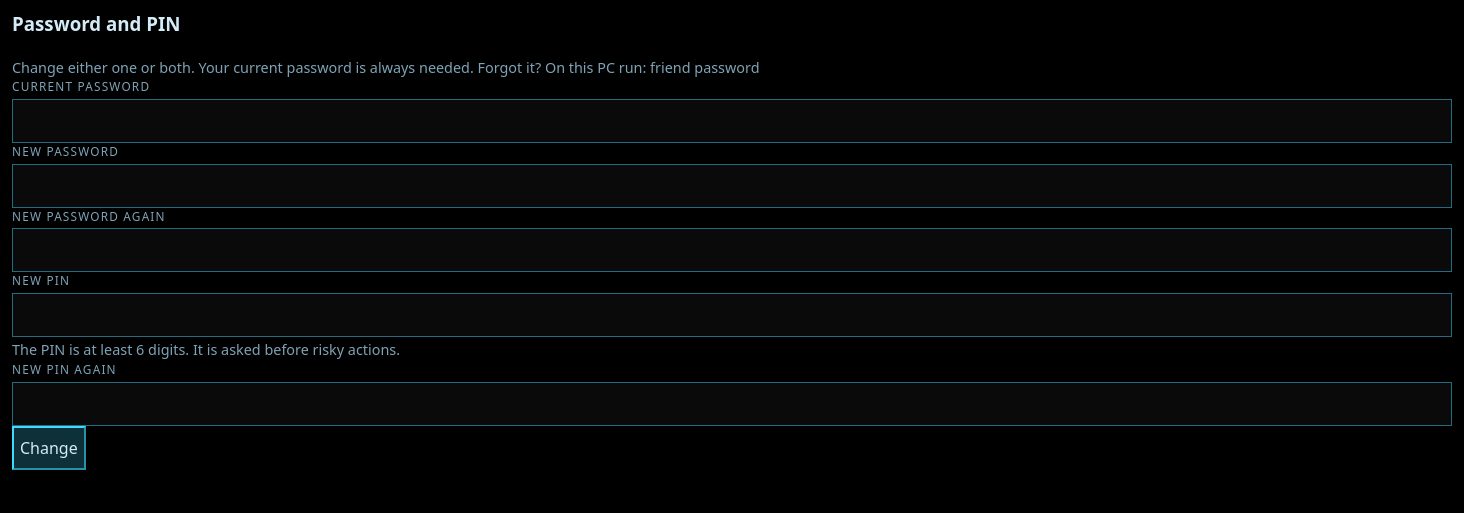
Test case: <SecurityTab> › shows the server's reason and clears the wrong current password
Type "nope" into the password field labelled "Current password".
click(732, 121); type("nope")  # box [12, 99, 1452, 143]
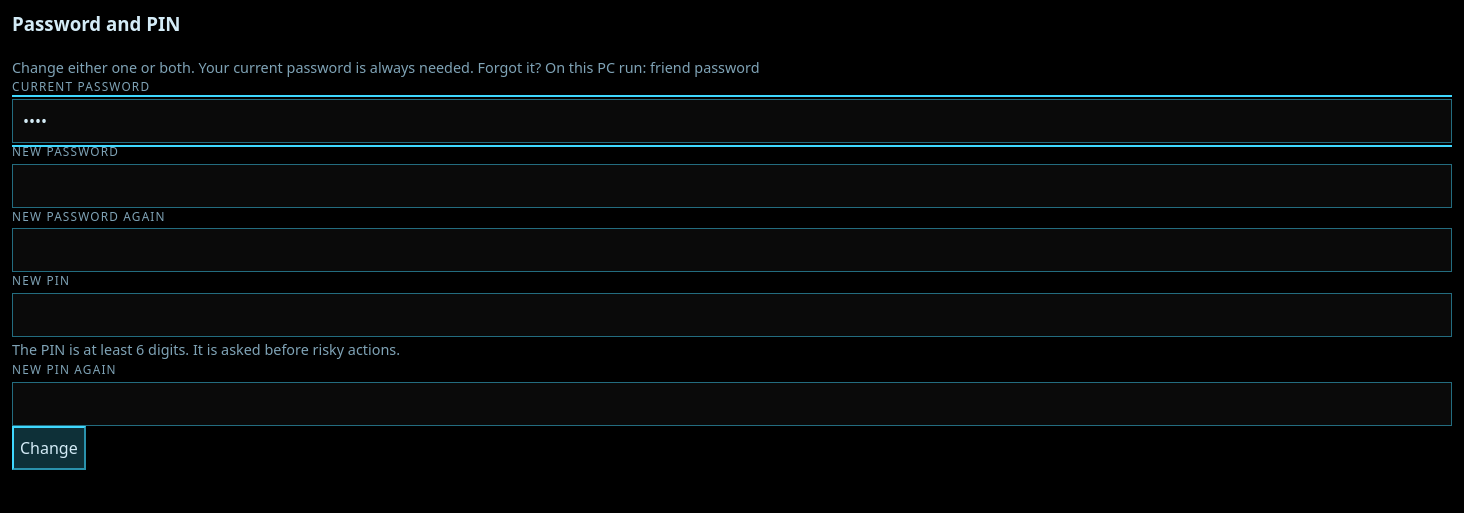
Type "123456" into the password field labelled "New PIN".
click(732, 315); type("123456")  # box [12, 293, 1452, 337]
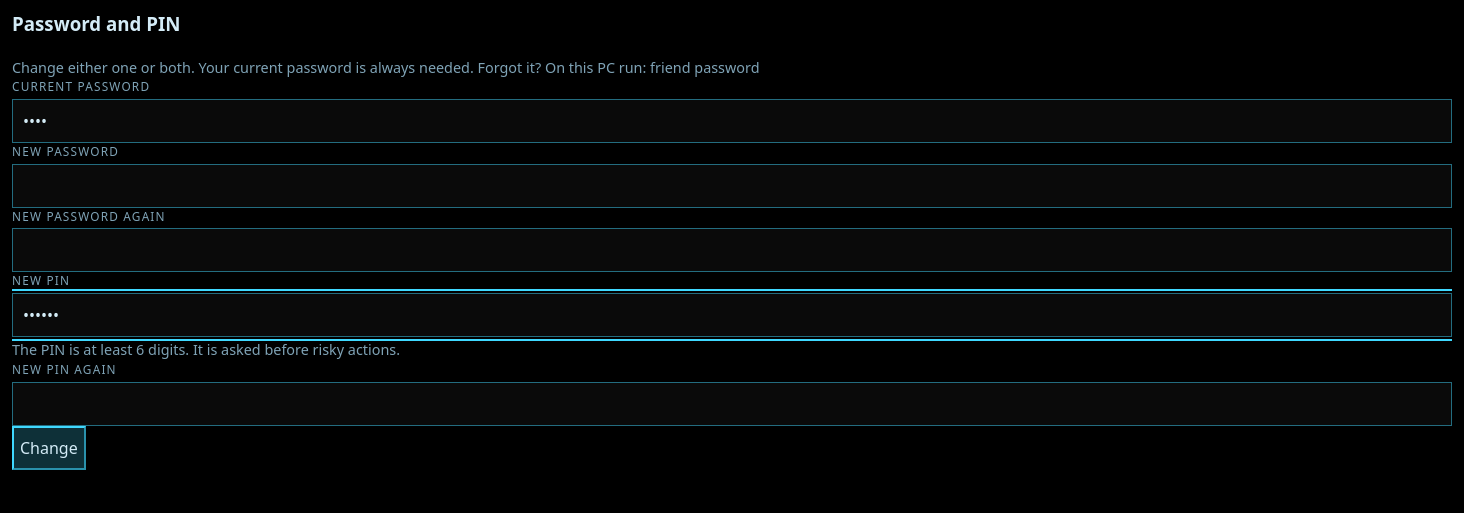
Type "123456" into the password field labelled "New PIN again".
click(732, 404); type("123456")  # box [12, 382, 1452, 426]
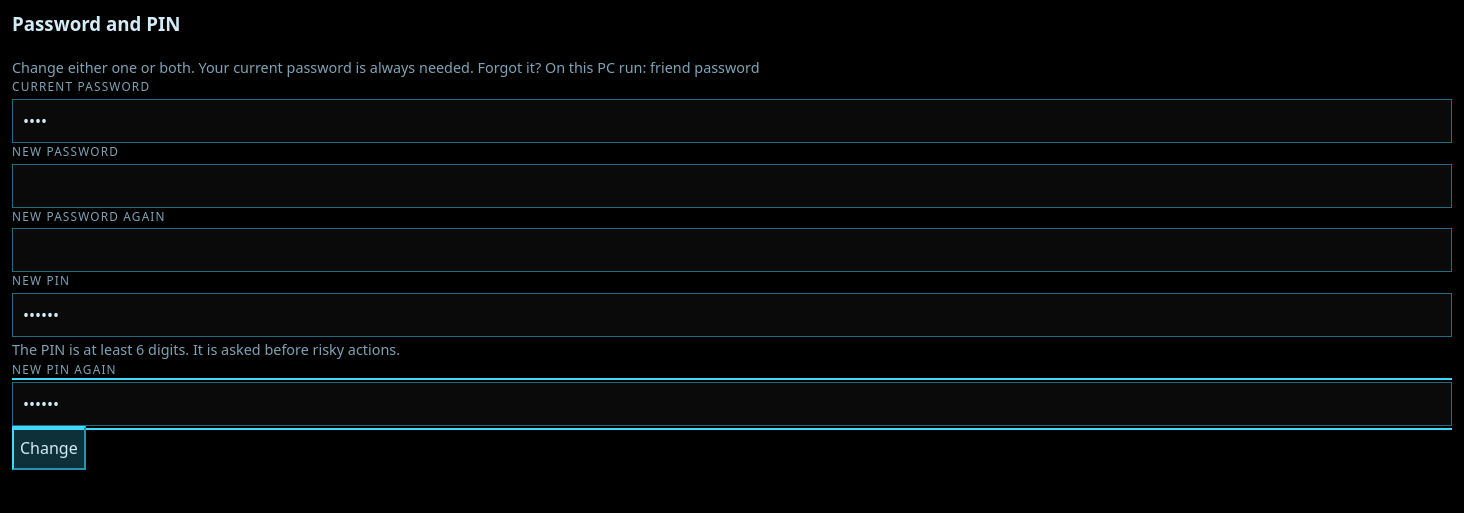
Click the button "Change".
click(49, 448)  # box [12, 426, 86, 470]
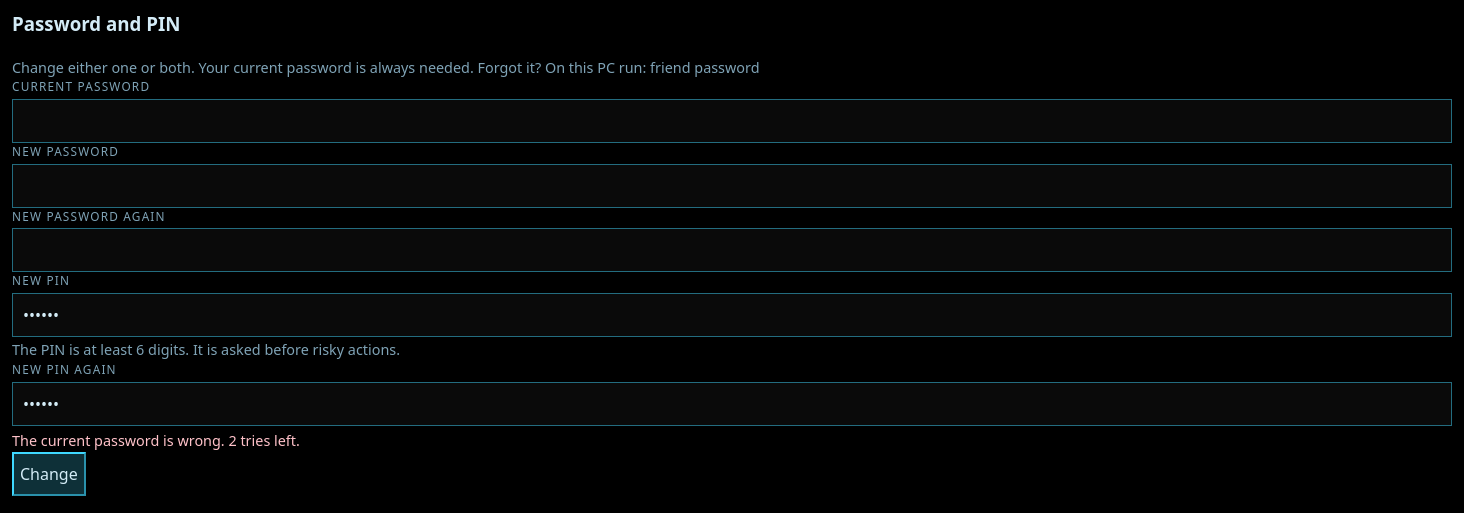
Now the message shows "wrong. 2 tries left", box [12, 431, 300, 450]
Now the password field labelled "Current password" is empty, box [12, 99, 1452, 143]
